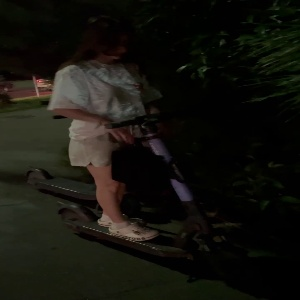human on a scooter: (42, 14, 253, 281)
